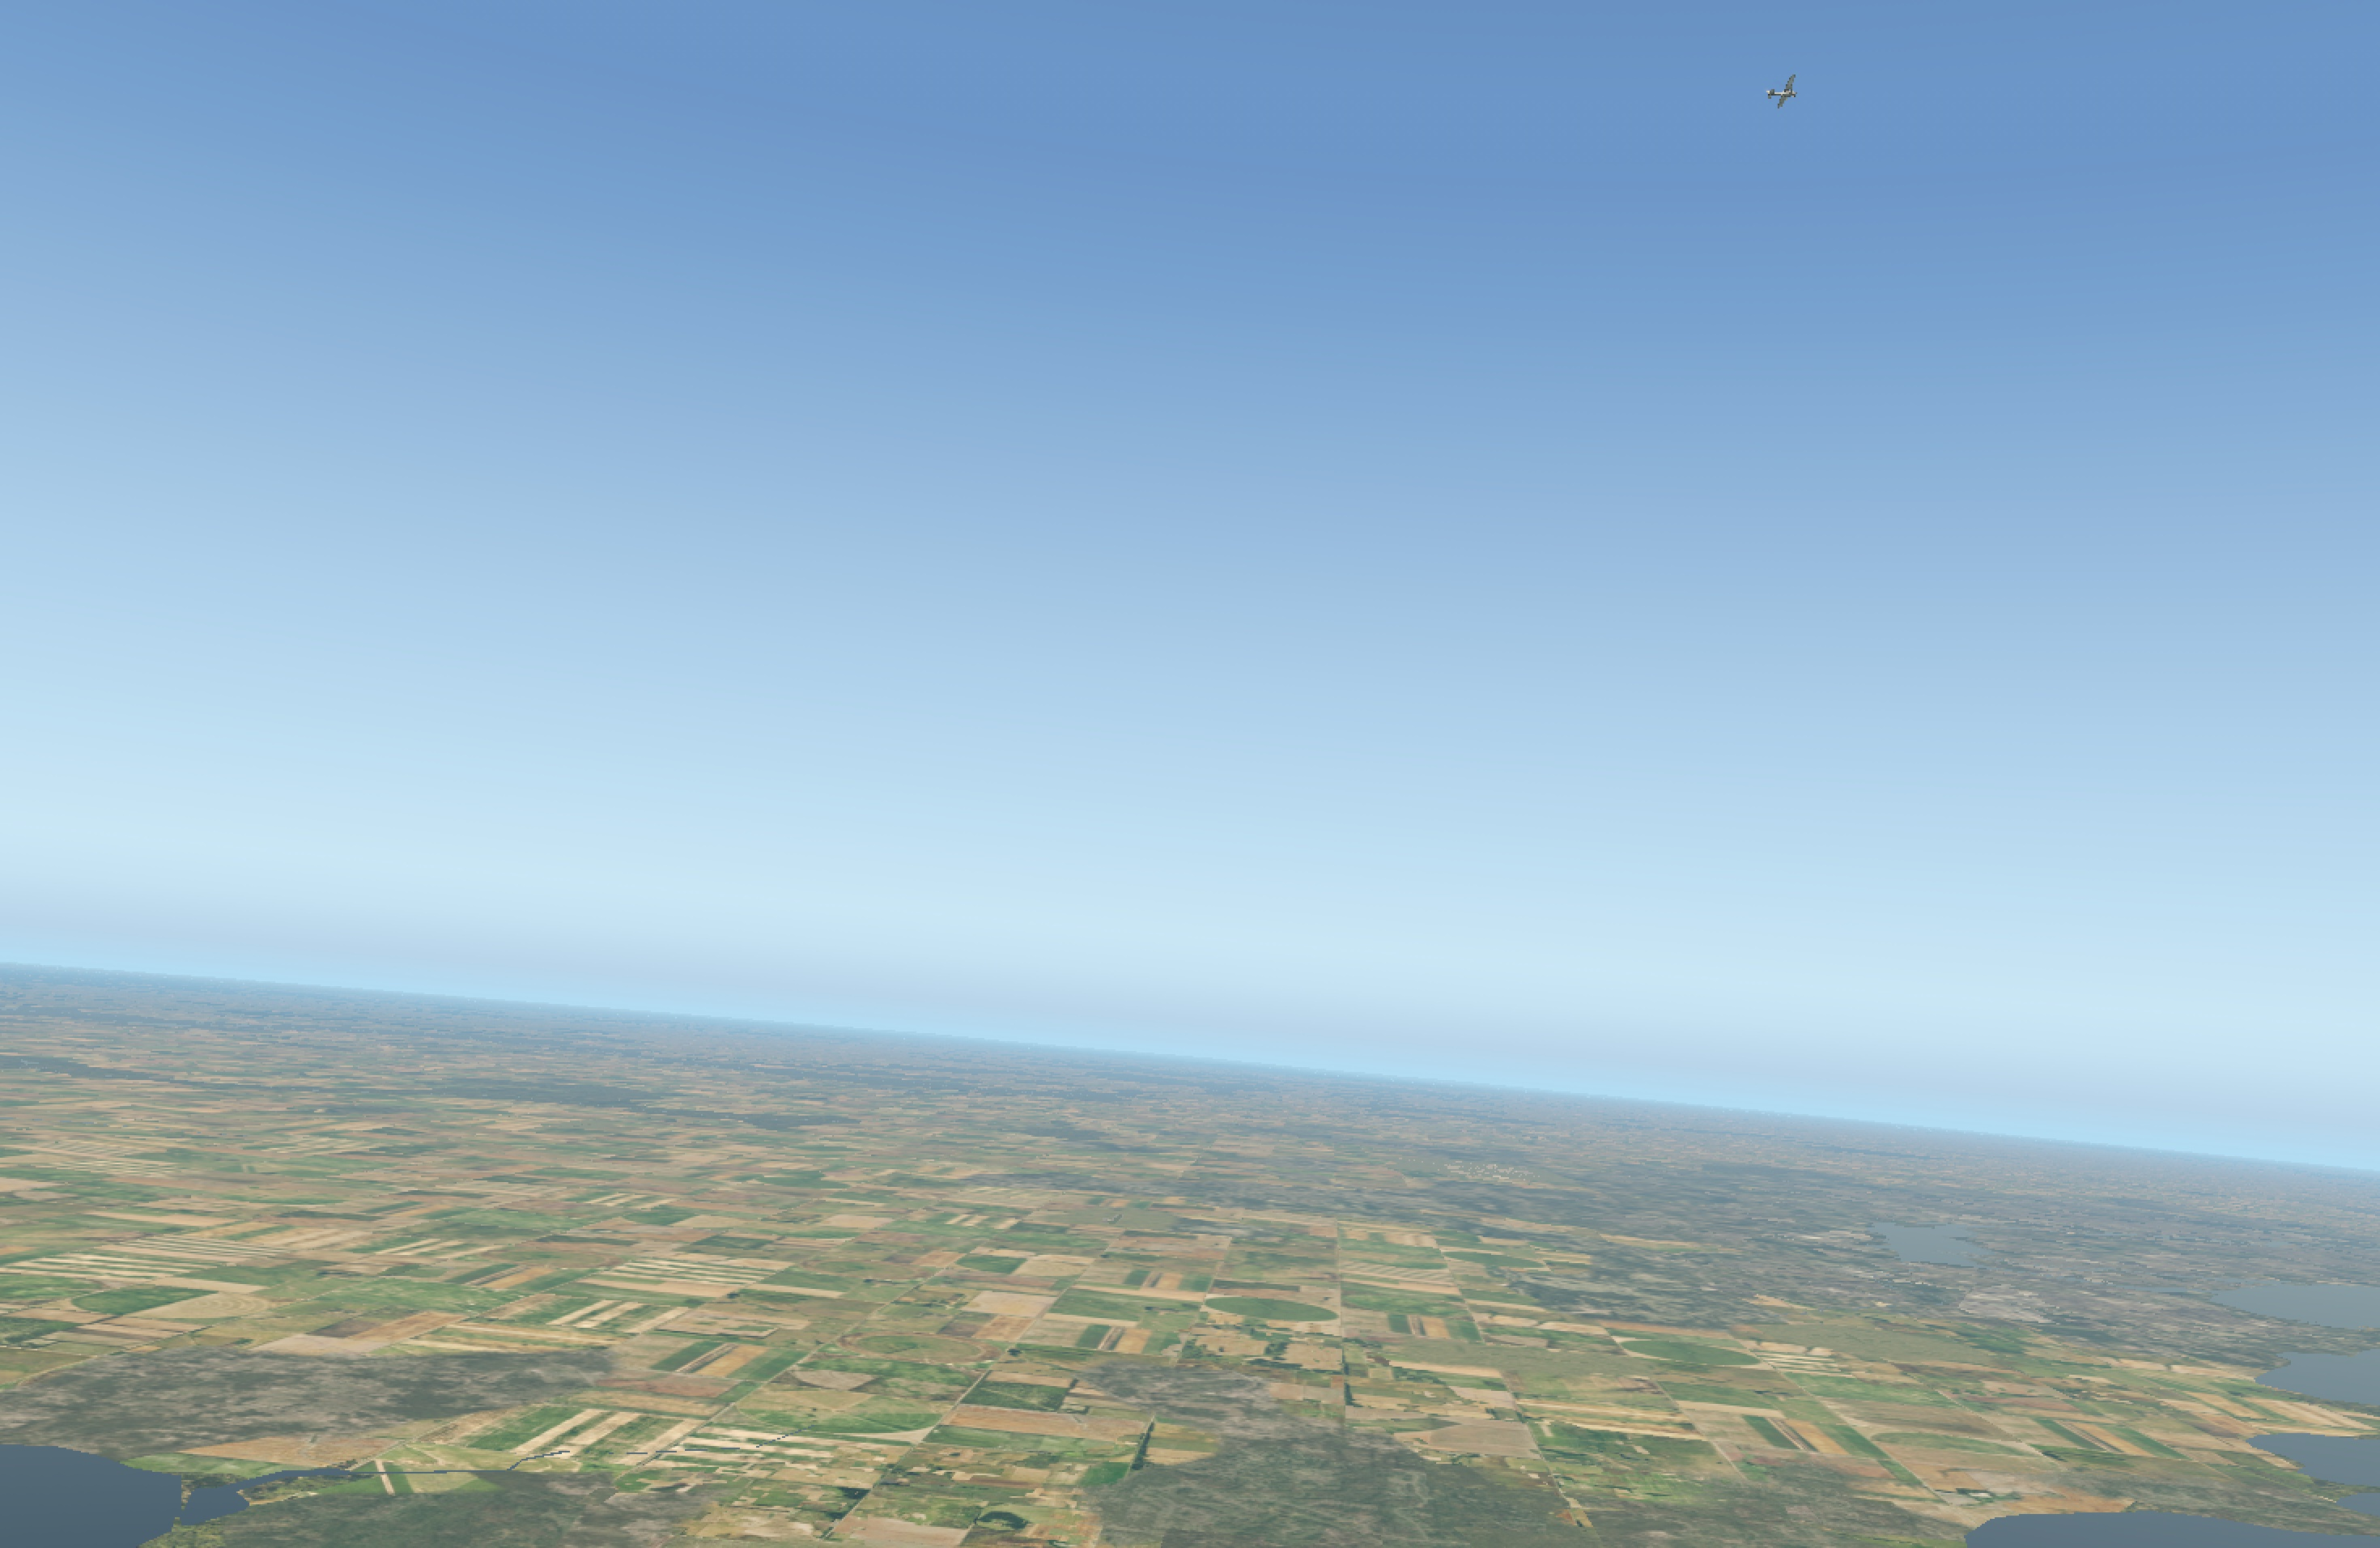aircraft: (1775, 89, 1802, 99)
